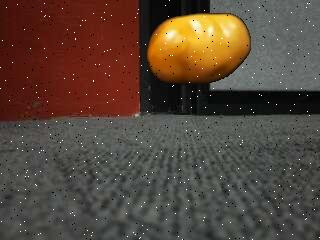Potato: (146, 13, 254, 87)
